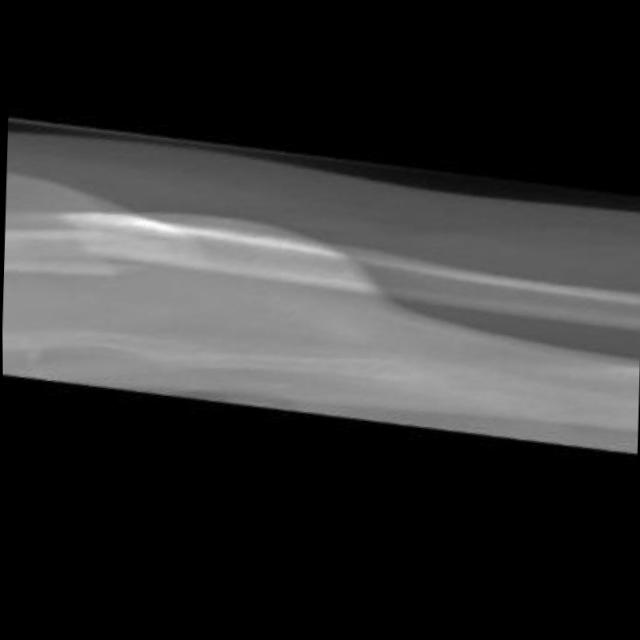fracture: (43, 191, 172, 314)
